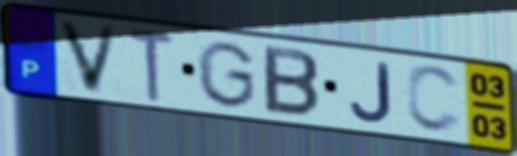B: (261, 42, 322, 121)
C: (404, 62, 465, 137)
G: (194, 38, 259, 111)
J: (348, 59, 396, 125)
T: (126, 25, 178, 105)
V: (54, 17, 122, 98)
